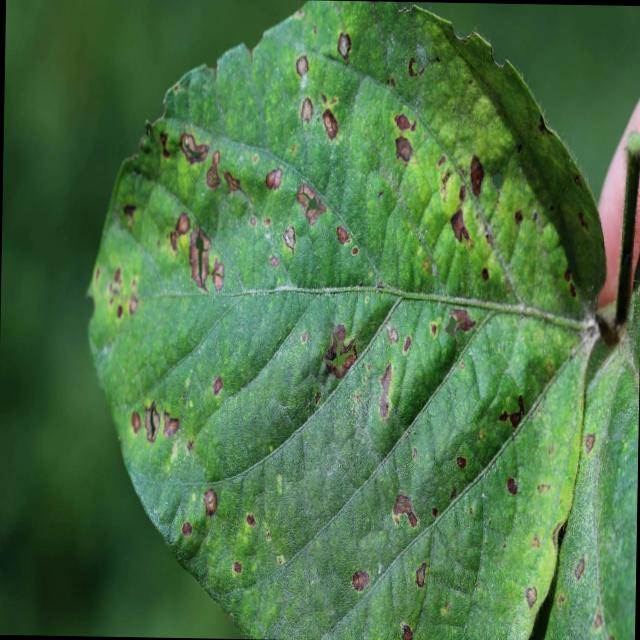leaf_spot: (88, 0, 640, 640)
